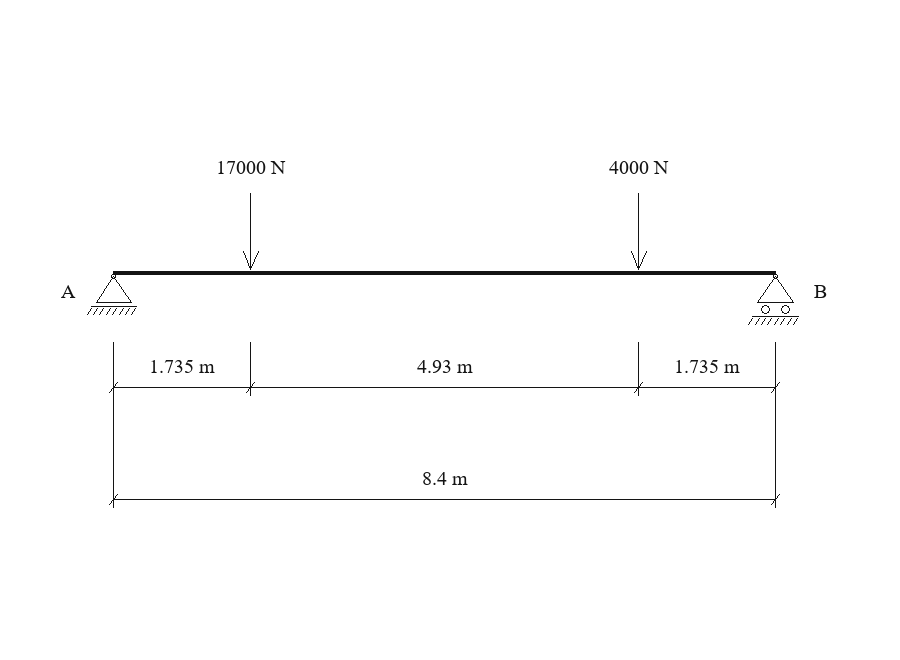pin_support: (87, 274, 137, 315)
point_load: (243, 193, 259, 270), (631, 193, 647, 270)
roller_support: (748, 274, 799, 325)
